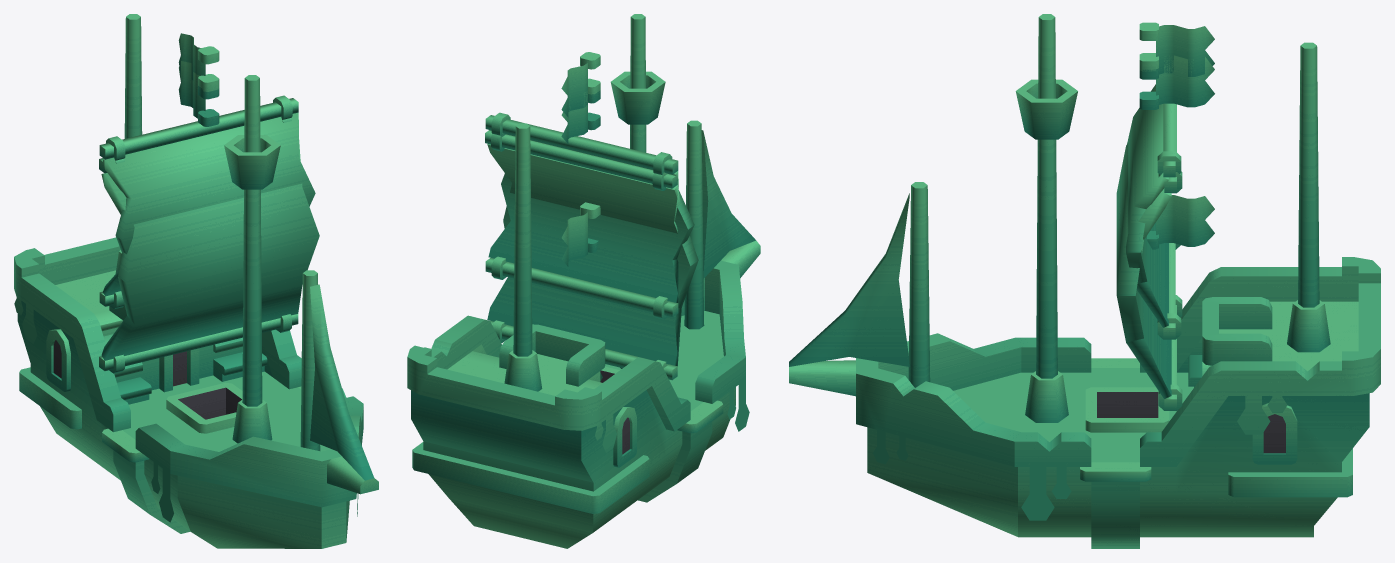
File: ship-small-ghost.glb
3 views of the same model, side by side, from view 1: azimuth 30°, elevation 25°; view 2: azimuth 150°, elevation 25°; view 3: azimuth 270°, elevation 25° (orthographic). The views are drawn at different scales.
Parts seen in each view (by area): view 1: ship-small-ghost, ship-small-ghost.004, ship-small-ghost.005, ship-small-ghost.003, ship-small-ghost.002; view 2: ship-small-ghost, ship-small-ghost.004, ship-small-ghost.005, ship-small-ghost.002, ship-small-ghost.001, ship-small-ghost.003; view 3: ship-small-ghost, ship-small-ghost.005, ship-small-ghost.004, ship-small-ghost.002, ship-small-ghost.003, ship-small-ghost.001.
Boxes of the visible parts, <box> form: ship-small-ghost: <box>14,14,378,548</box>; ship-small-ghost.004: <box>99,118,319,373</box>; ship-small-ghost.005: <box>99,95,315,309</box>; ship-small-ghost.003: <box>178,61,219,126</box>; ship-small-ghost.002: <box>178,33,219,99</box>; ship-small-ghost: <box>407,14,760,548</box>; ship-small-ghost.004: <box>485,130,698,380</box>; ship-small-ghost.005: <box>485,112,694,319</box>; ship-small-ghost.002: <box>561,52,600,117</box>; ship-small-ghost.001: <box>561,202,600,266</box>; ship-small-ghost.003: <box>561,78,600,143</box>; ship-small-ghost: <box>789,14,1380,548</box>; ship-small-ghost.005: <box>1126,84,1181,339</box>; ship-small-ghost.004: <box>1116,104,1182,410</box>; ship-small-ghost.002: <box>1139,22,1214,79</box>; ship-small-ghost.003: <box>1139,53,1214,109</box>; ship-small-ghost.001: <box>1147,195,1214,249</box>.
Size of the model in its own units: 16.32 by 33.88 by 36.04.
Materials: 1 (1 with a texture image).
